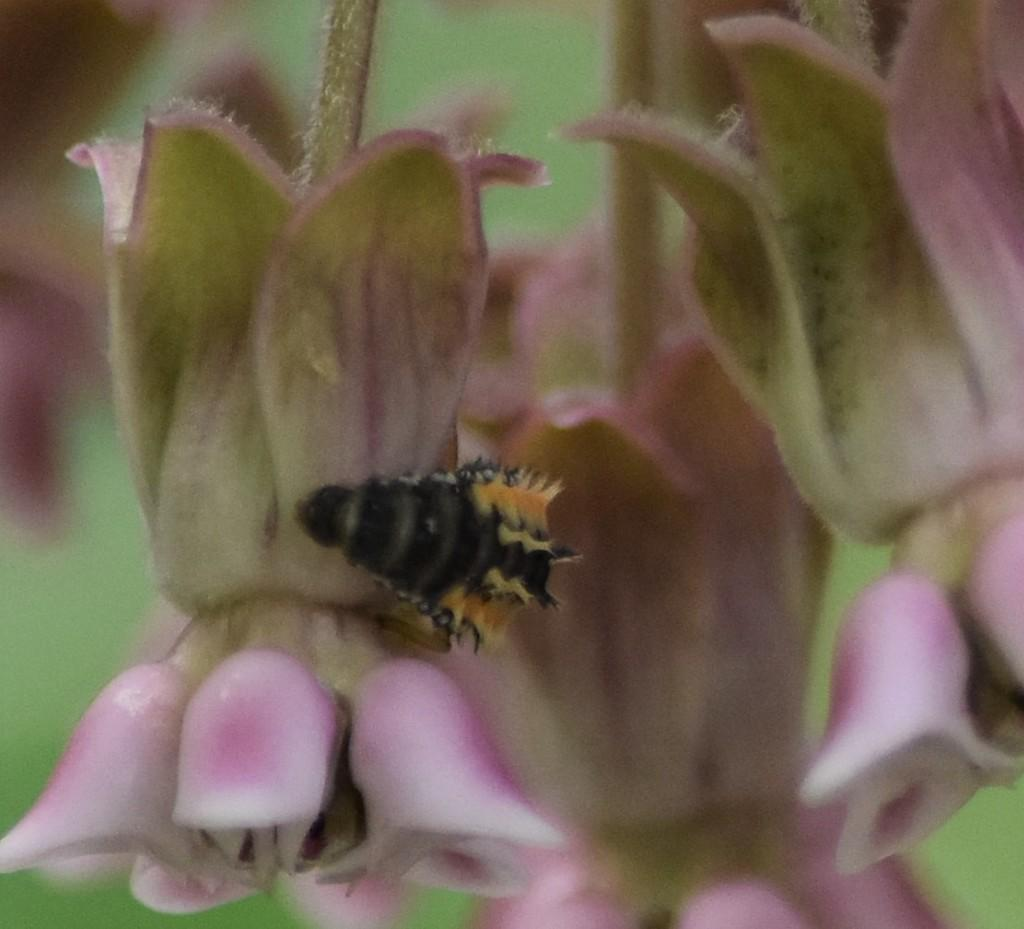ladybug: (289, 451, 591, 661)
